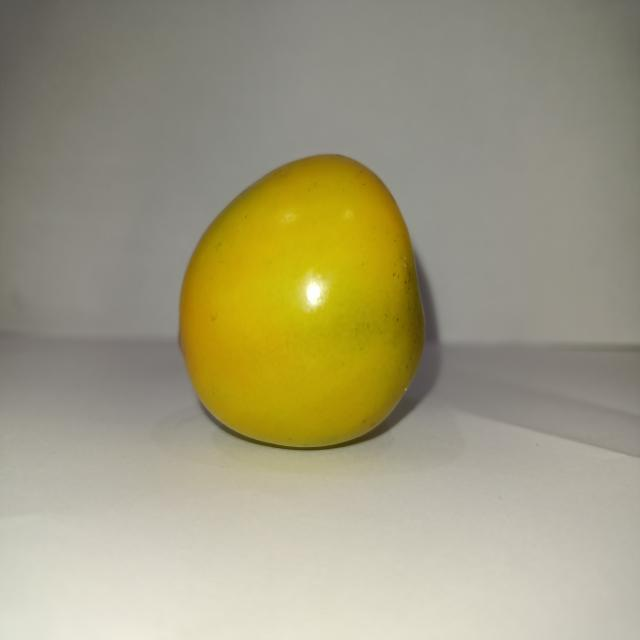Red: (177, 151, 426, 450)
